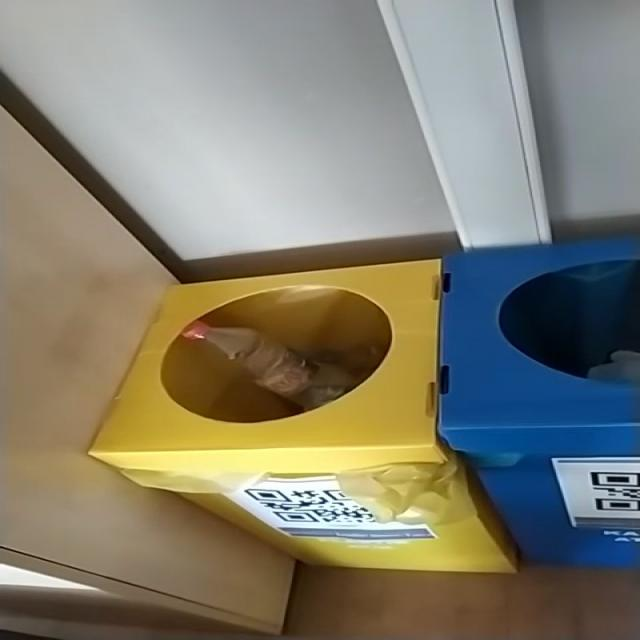plastic: (181, 321, 359, 411)
